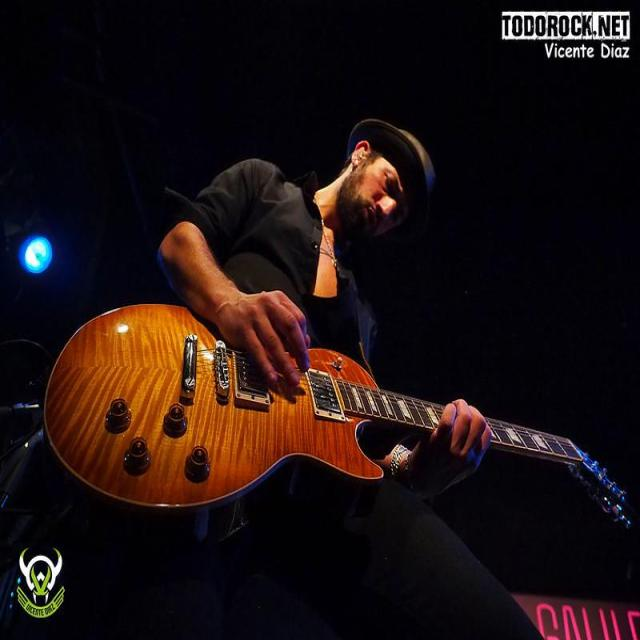guitar: (45, 304, 442, 509)
